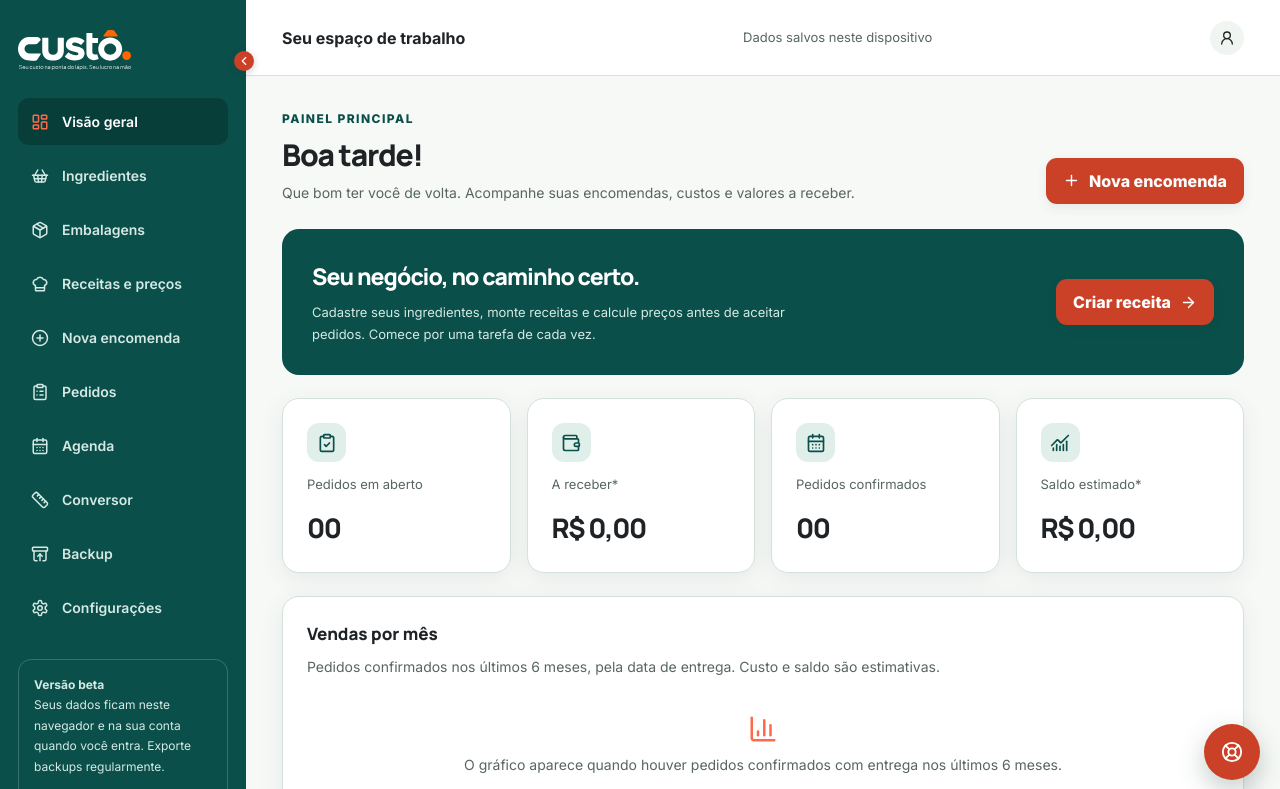
Test: Nova encomenda com várias receitas › não salva sem produto válido (receita não escolhida)
This screenshot has width=1280, height=789.
Click the 2nd button "Nova encomenda" at (123, 338), box top-left (18, 314), bottom-right (228, 361)
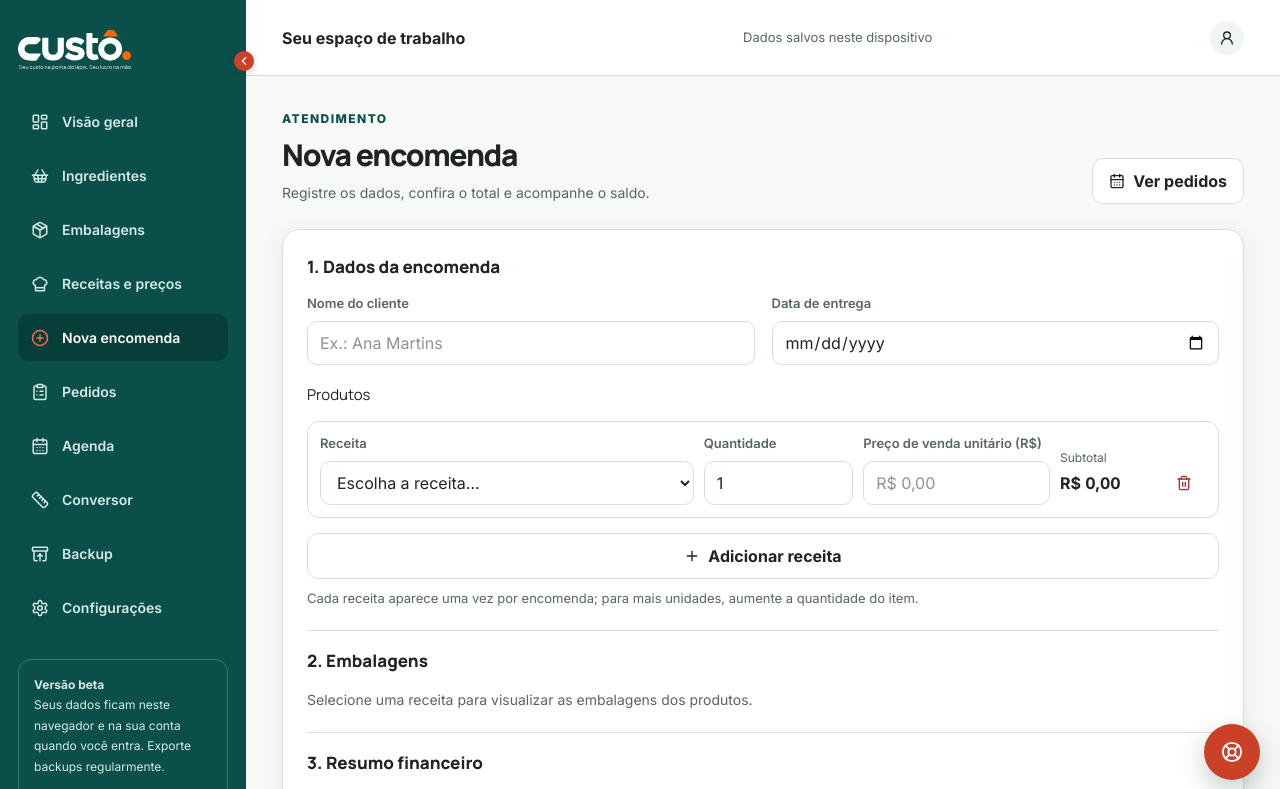
Type "Bia" into the field labelled "Nome do cliente" at (531, 343), box top-left (307, 321), bottom-right (754, 365)
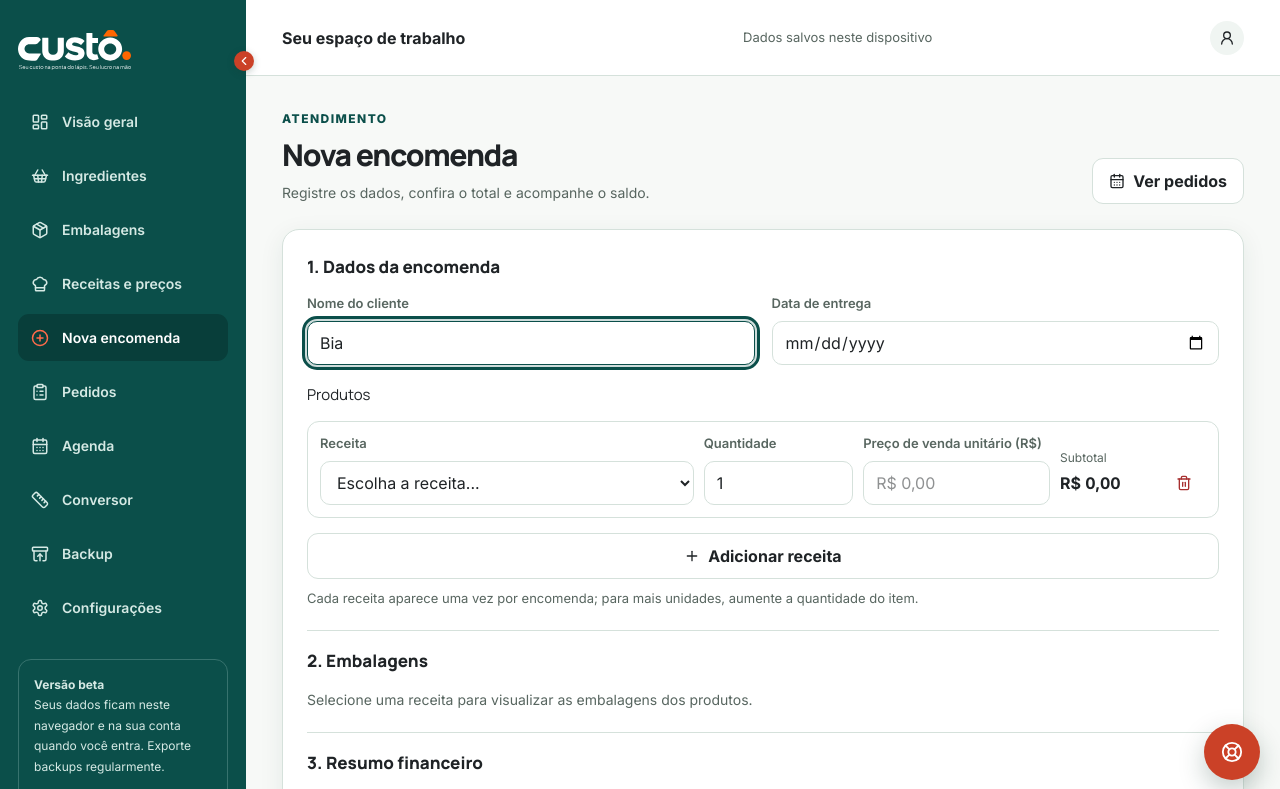
Type "2026-12-20" into the date field labelled "Data de entrega" at (995, 343), box top-left (772, 321), bottom-right (1219, 365)
(page scrolled)
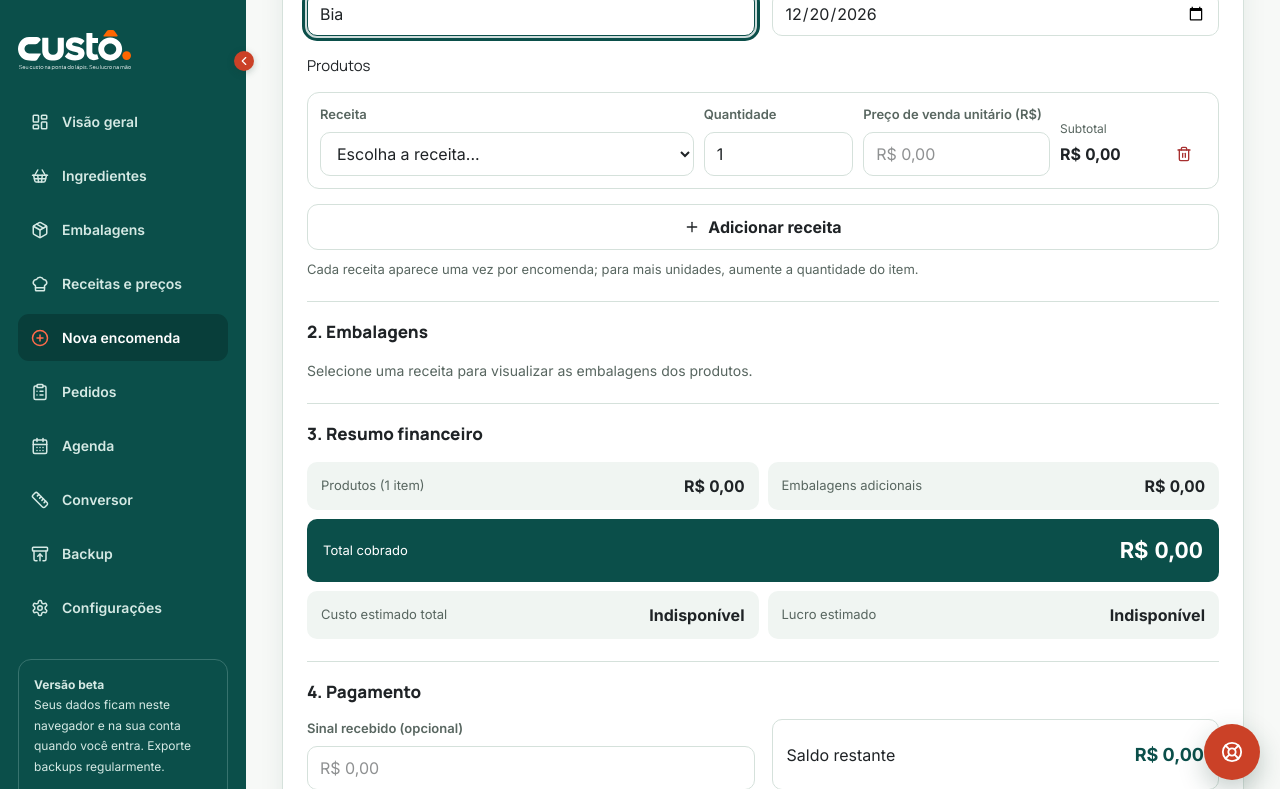
Submit the form named "Registrar encomenda"
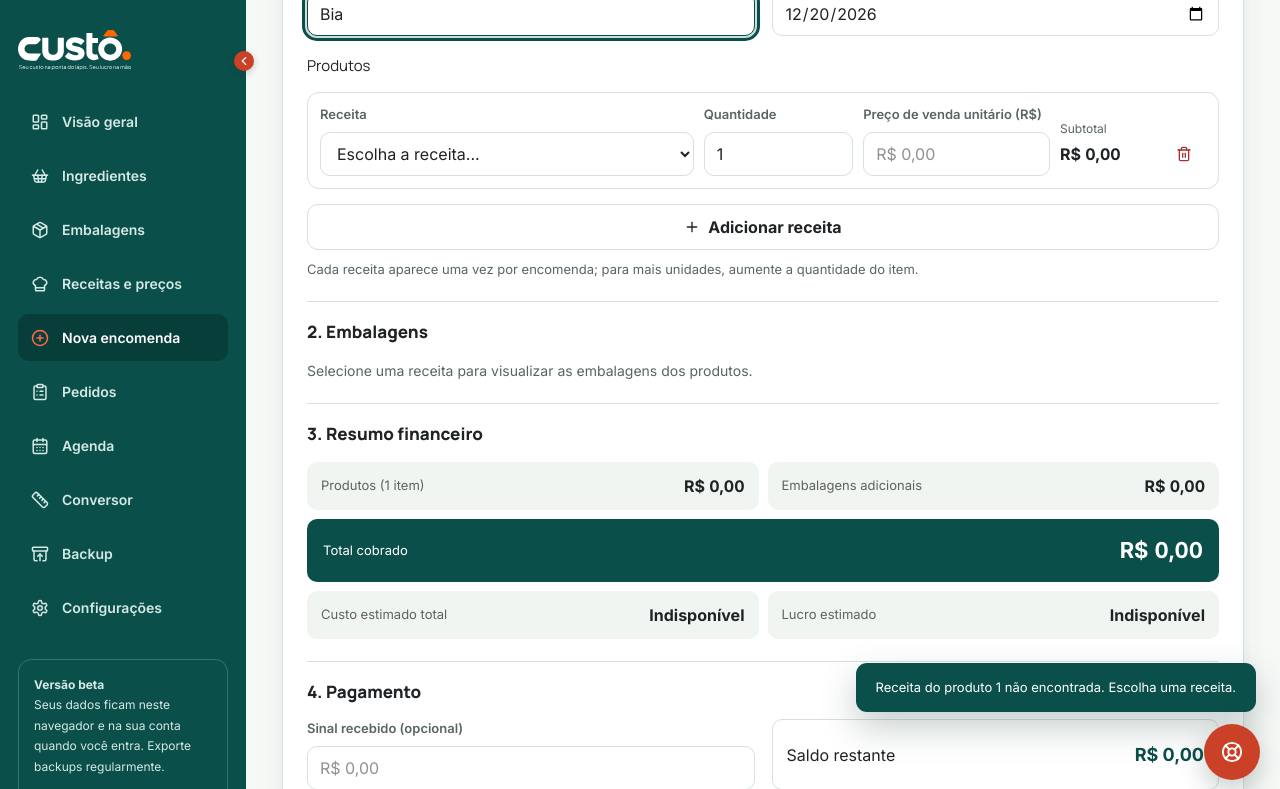
Expected: the text "Receita do produto 1 não encontrada. Escolha uma receita." is shown, top-left (856, 662), bottom-right (1256, 712)
